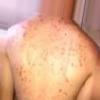Acne: (26, 18, 50, 34), (13, 67, 37, 83), (68, 47, 87, 67), (53, 75, 71, 96), (54, 17, 72, 34)
